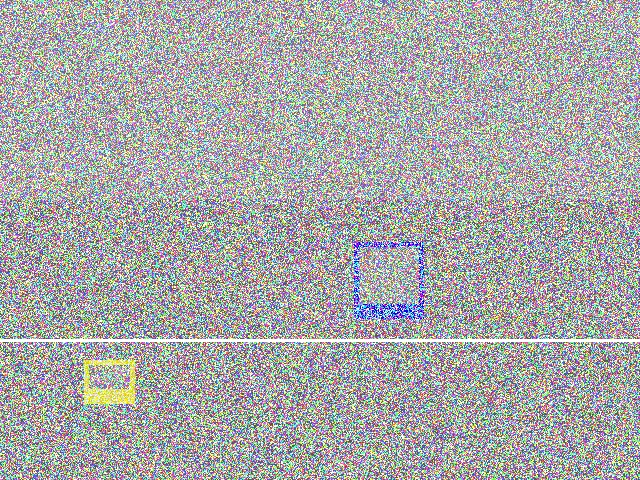car: (317, 337, 495, 462), (84, 372, 249, 425)
